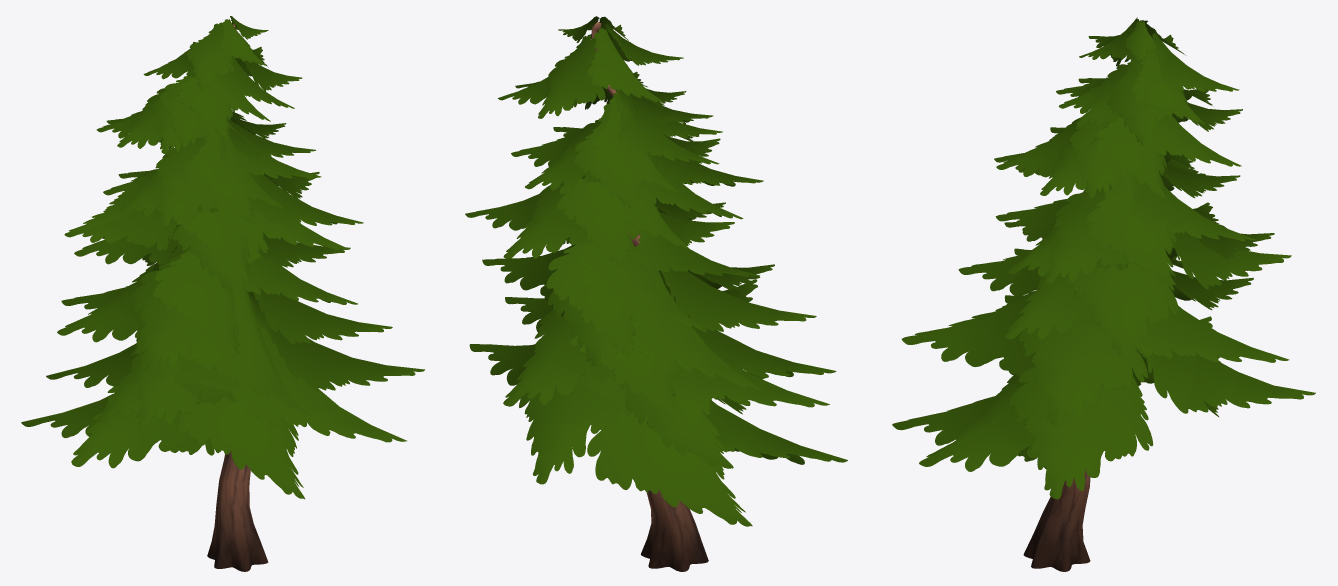
File: pine_5.glb
The picture shows the model from 3 angles, left to right: view 1: azimuth 30°, elevation 25°; view 2: azimuth 150°, elevation 25°; view 3: azimuth 270°, elevation 25°; orthographic projection. The views are drawn at different scales.
Parts seen in each view (by area): view 1: Pine_5; view 2: Pine_5; view 3: Pine_5.
Part boxes in pixels (left/top/right/bottom): Pine_5: left=21, top=16, right=424, bottom=571; Pine_5: left=465, top=16, right=847, bottom=571; Pine_5: left=892, top=17, right=1315, bottom=571.
Bounding box in the file's own units: 6.42 × 8.72 × 6.22.
2 materials, 2 textured.
